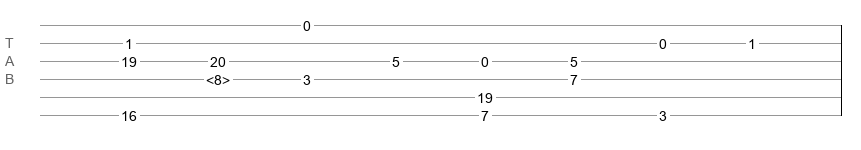0: (303, 18, 311, 28), (481, 54, 489, 64), (659, 36, 667, 46)
1: (125, 36, 133, 46), (748, 36, 756, 46)
16: (121, 108, 137, 118)
19: (121, 54, 137, 64), (477, 90, 493, 100)
20: (210, 54, 226, 64)
3: (303, 72, 311, 82), (659, 108, 667, 118)
5: (392, 54, 400, 64), (570, 54, 578, 64)
7: (481, 108, 489, 118), (570, 72, 578, 82)
harmonic: (206, 72, 230, 82)
